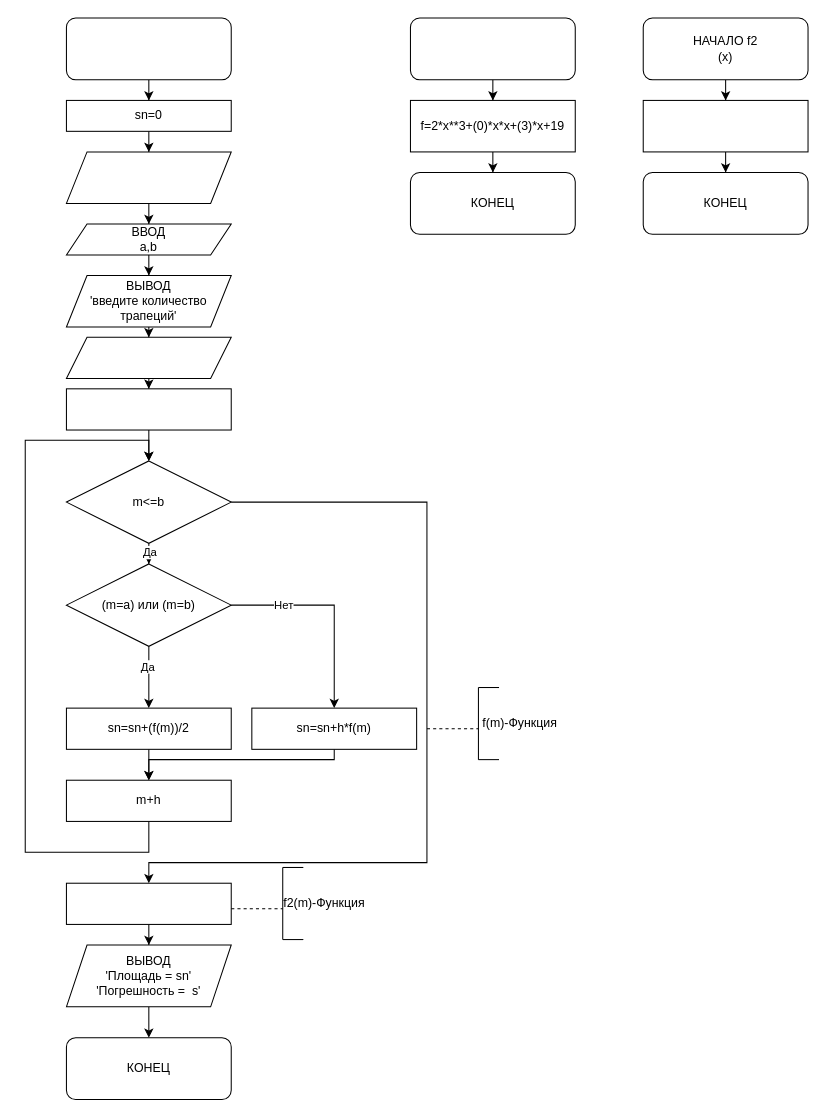
The diagram is 826 pixels wide and 1118 high, and some of its shapes have lost their labels. Here are the shapes that lost their labels. From the top down, the centre of each, then its label:
the point at 148,48: НАЧАЛО
the point at 492,48: НАЧАЛО f (x)
the point at 725,125: f:=((x**4+3*x**2)/2)+19*x
the point at 148,177: ВЫВОД 'Введите пределы интегрирования '
the point at 148,357: ВВОД n
the point at 148,409: h=(b-a)/n m=a
the point at 148,903: sn= sn*h; s=abs((f2(b)-f2(a)-sn));
